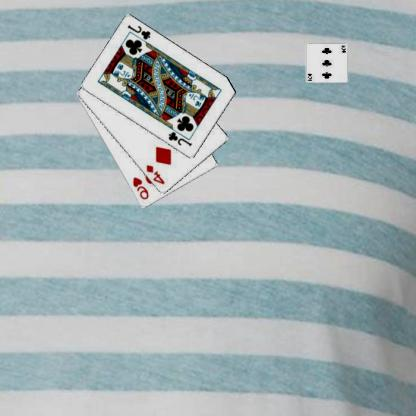4D: (146, 162, 168, 186)
9H: (132, 175, 151, 201)
JC: (168, 130, 195, 148), (127, 23, 154, 41)
